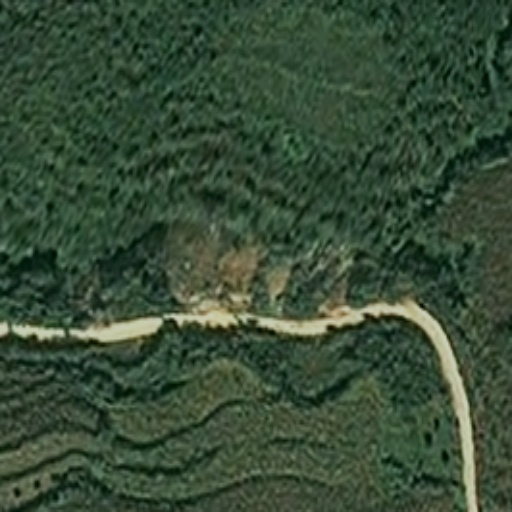landslide: (149, 222, 267, 317)
